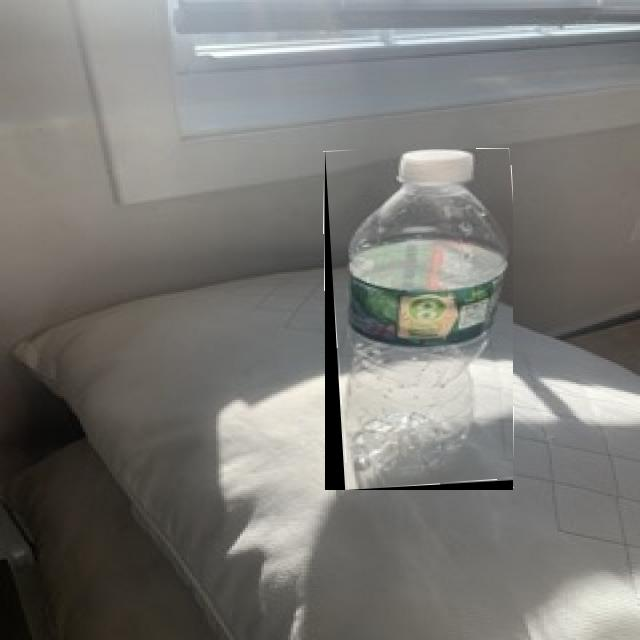water_bottle: (325, 149, 513, 490)
